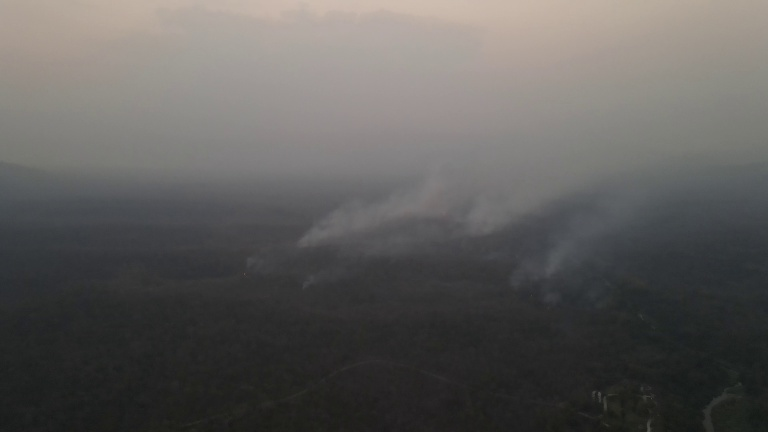smoke: (294, 142, 618, 302)
